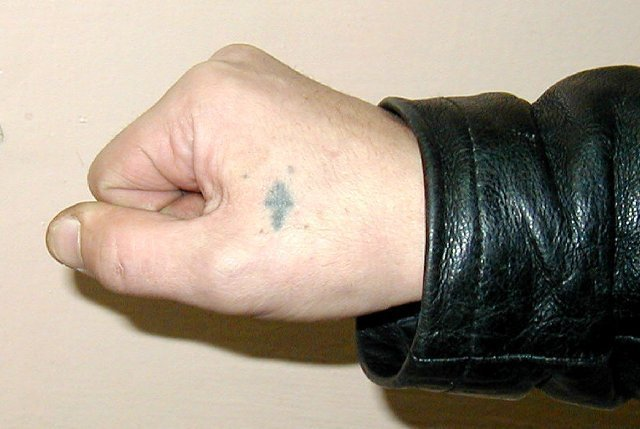tatu9_krest: (263, 176, 292, 230)
